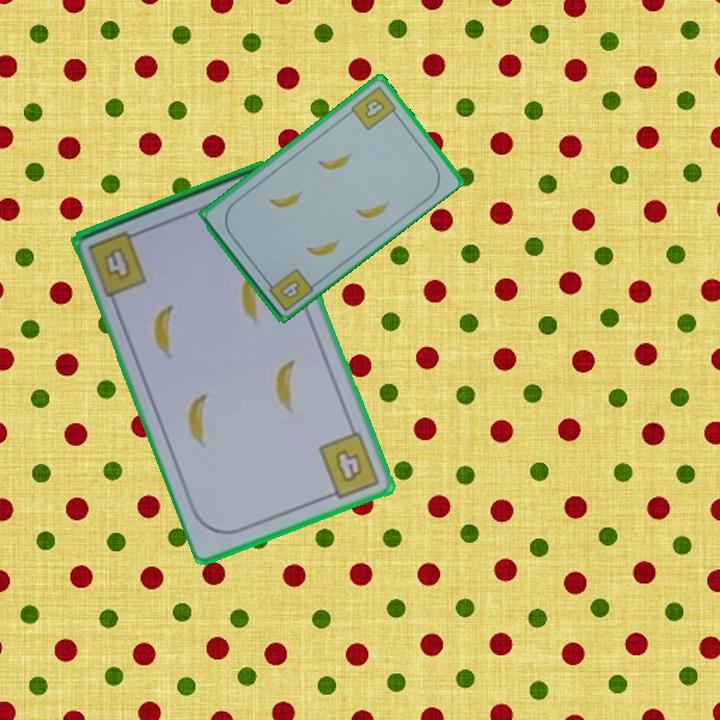4b: (315, 428, 384, 503), (84, 227, 150, 300), (347, 82, 402, 133), (261, 264, 316, 314)
